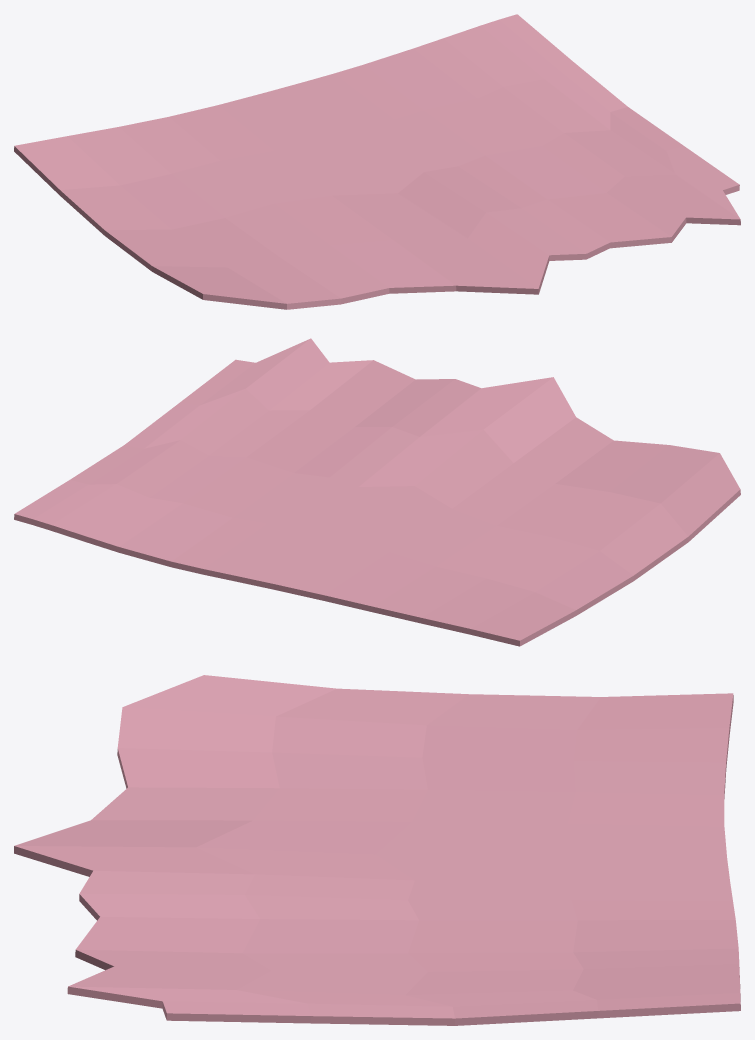
The model's file is RippedNote.fbx.
The picture shows the model from 3 angles, top to bottom: view 1: azimuth 30°, elevation 25°; view 2: azimuth 150°, elevation 25°; view 3: azimuth 270°, elevation 25°; orthographic projection. The views are drawn at different scales.
Parts seen in each view (by area): view 1: RippedNote; view 2: RippedNote; view 3: RippedNote.
Part boxes in pixels (bbox=[...]): RippedNote: bbox=[14, 14, 740, 309]; RippedNote: bbox=[14, 338, 740, 646]; RippedNote: bbox=[14, 675, 740, 1025].
Size of the model in its own units: 18.99 by 0.6576 by 17.74.
